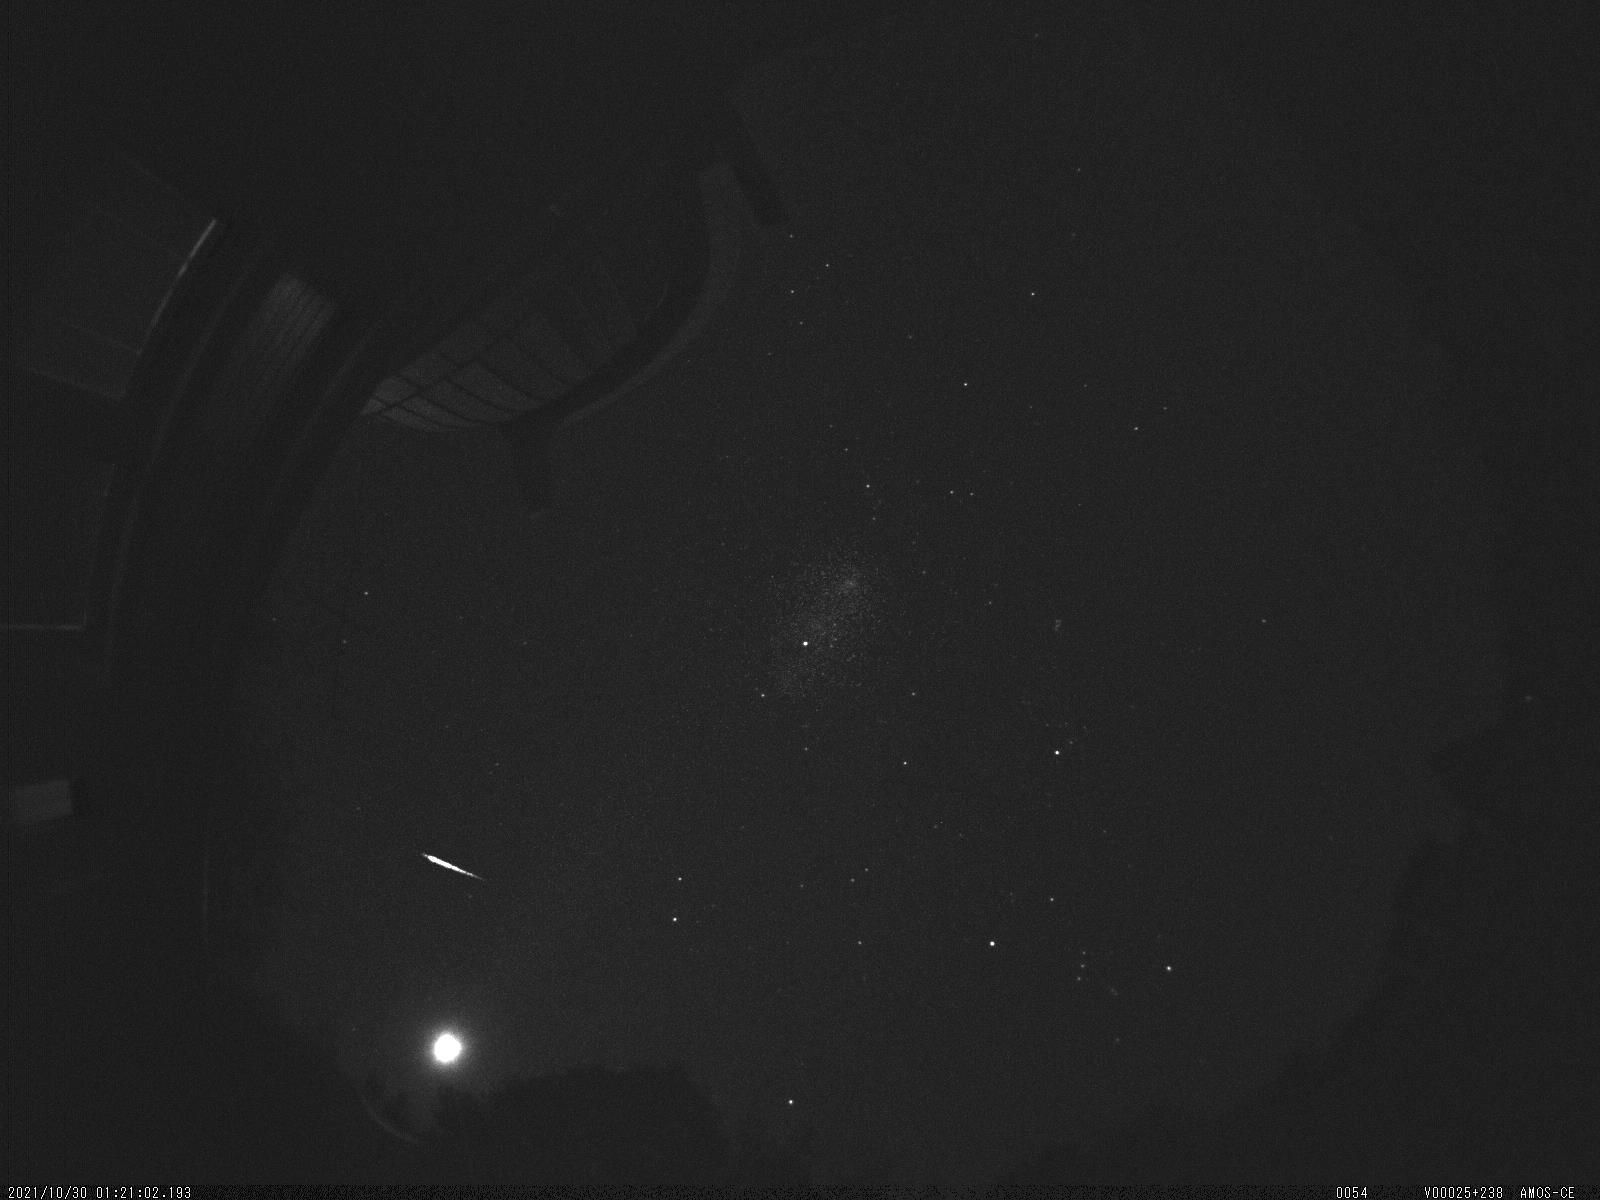Meteor: (410, 837, 504, 900)
